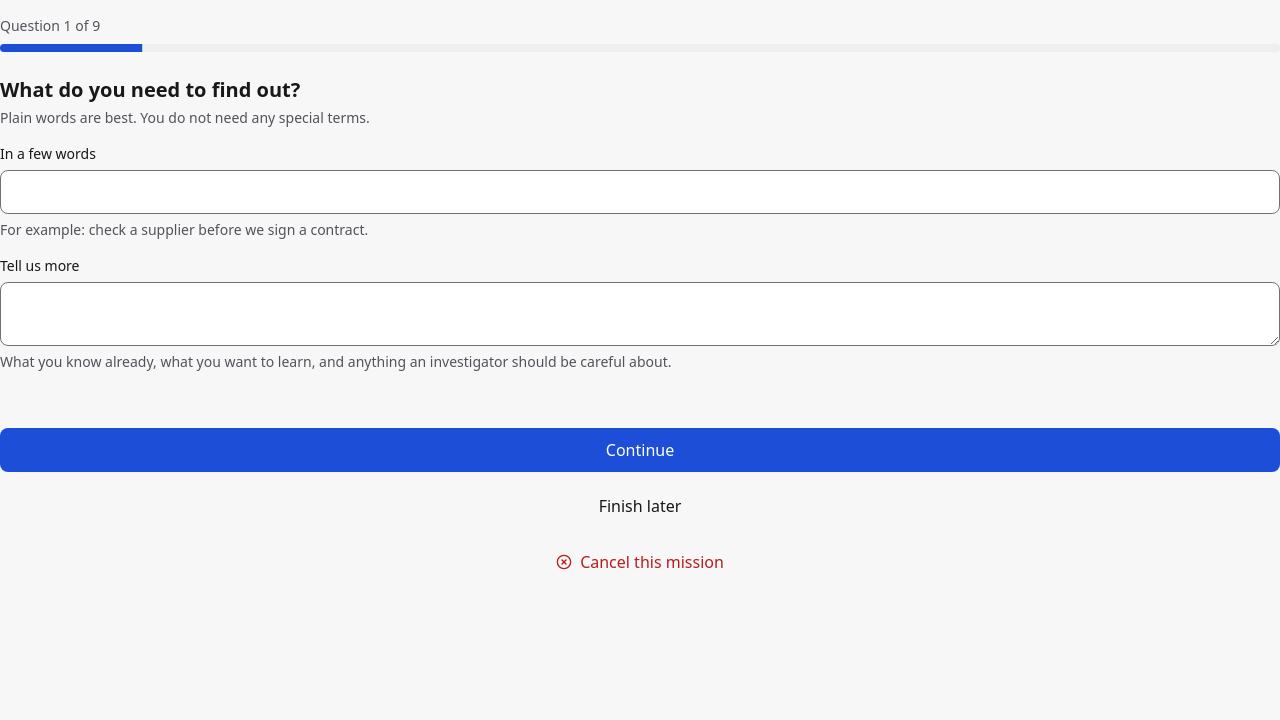
mission intake › cancelling the draft (T-154) › cancels nothing while what is waiting cannot be saved, and says why
Type "A" into the field labelled "In a few words" at [640, 192], box [0,170,1279,214]
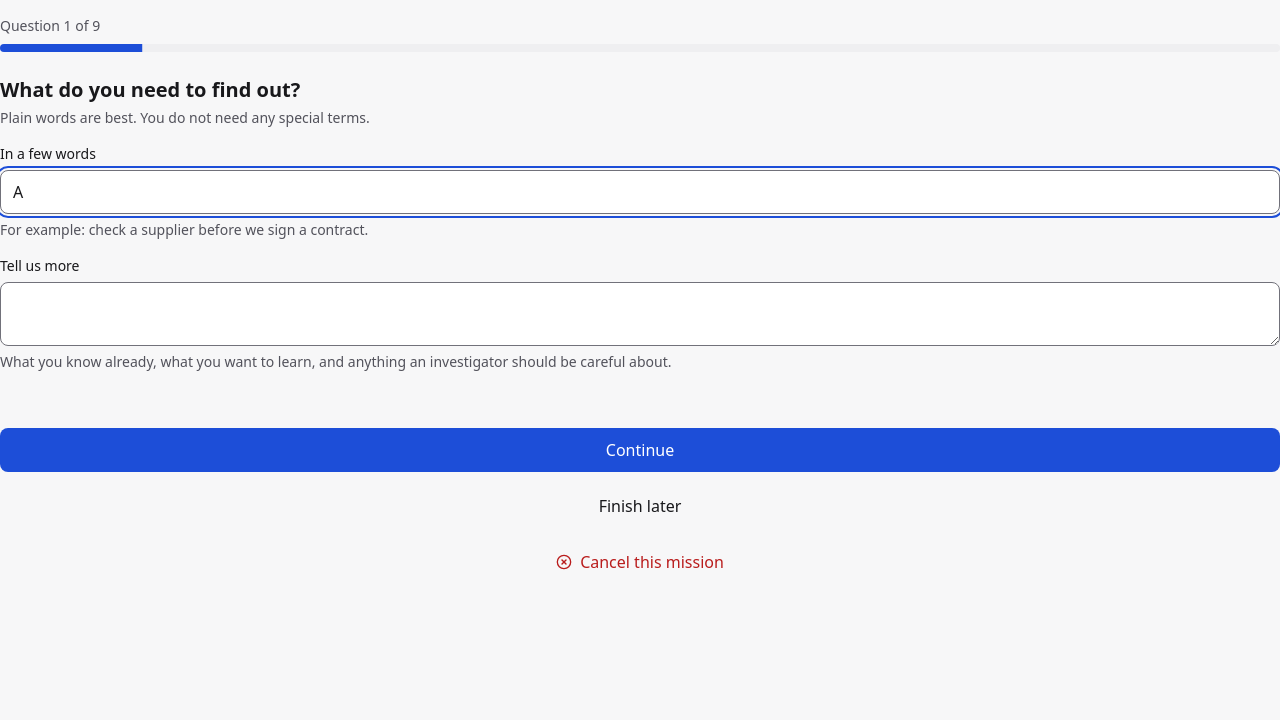
Click the button "Cancel this mission" at [640, 562], box [0,540,1279,584]
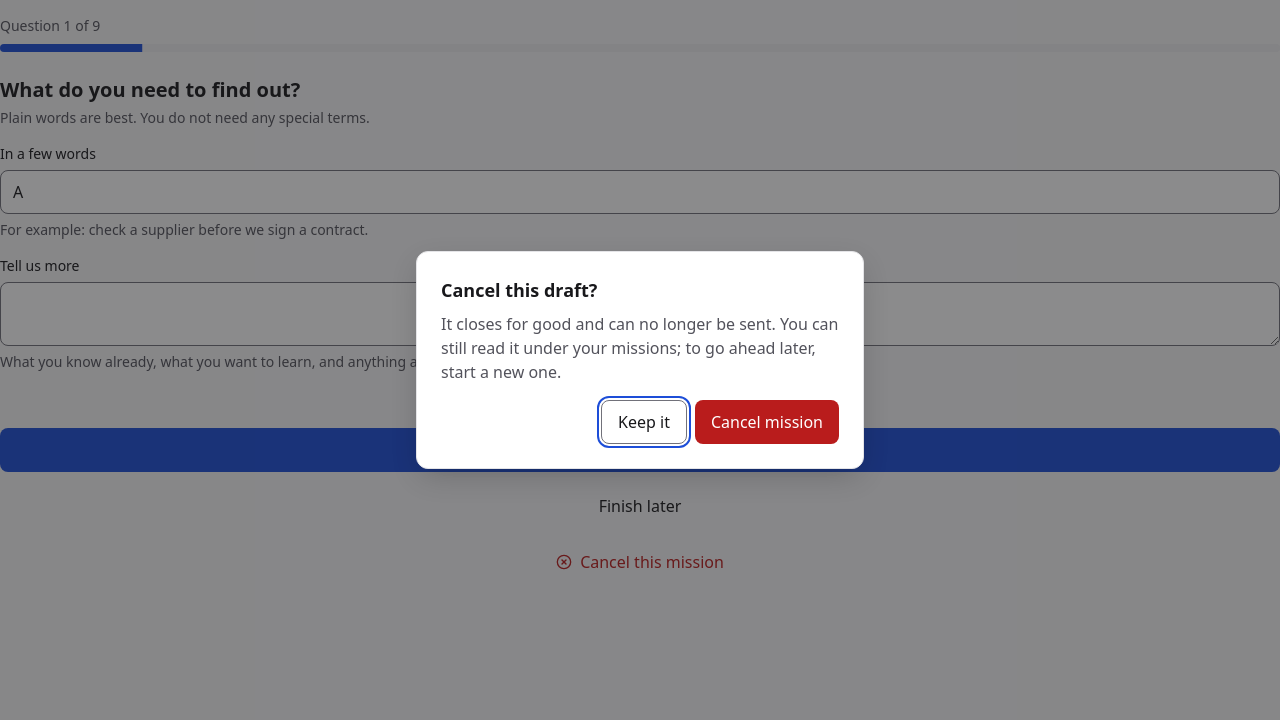
Click the button "Cancel mission" at [767, 422], box [695,400,839,444]
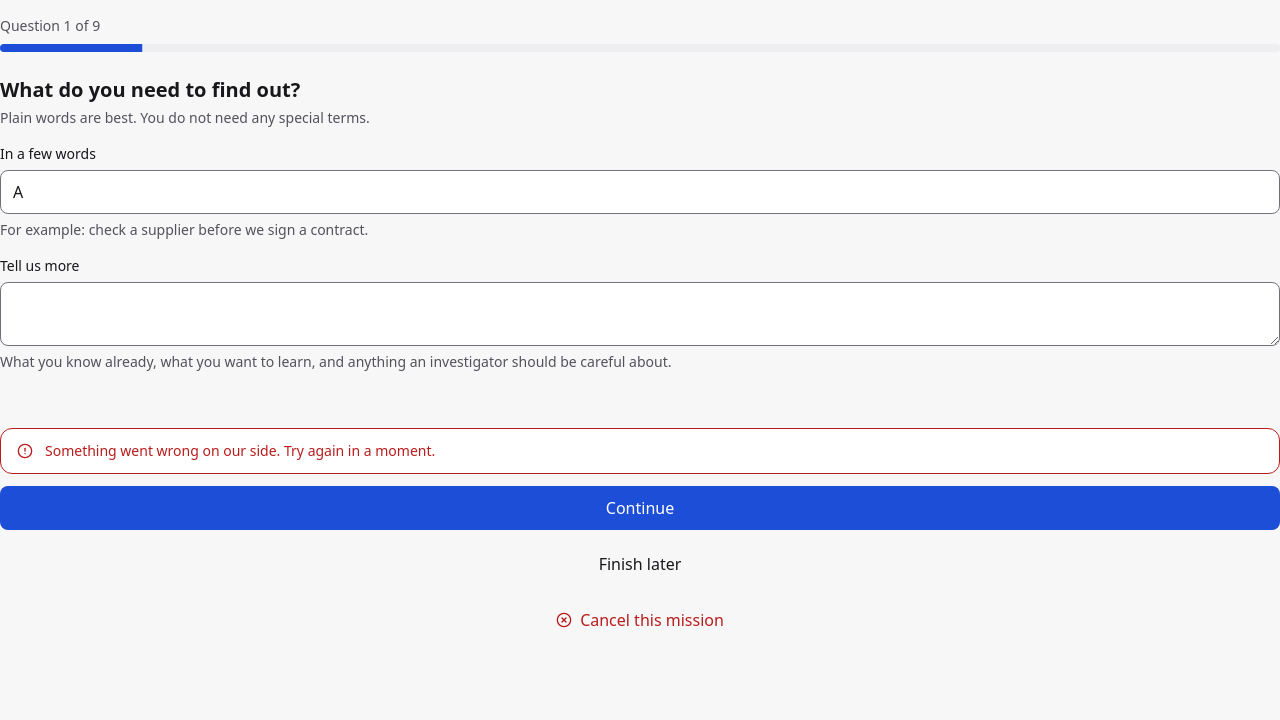
expect the message "Something went wrong on our side. Try again in a moment." is shown: met, box [0,428,1279,474]
